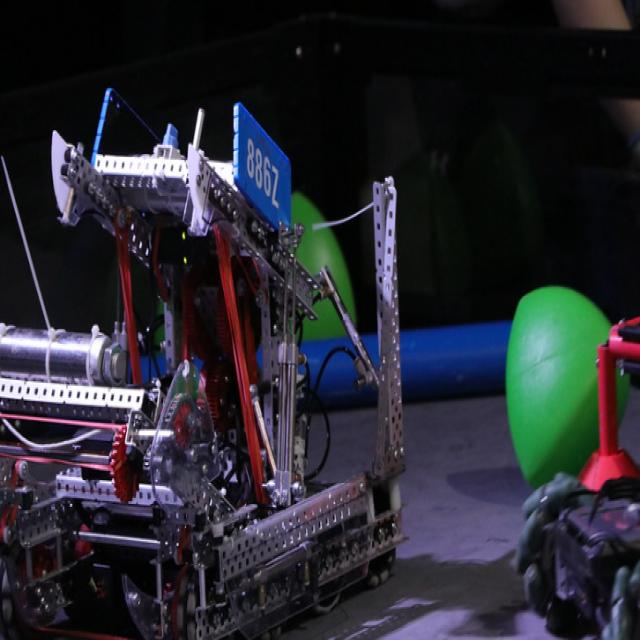License-Plates: (236, 108, 298, 232)
